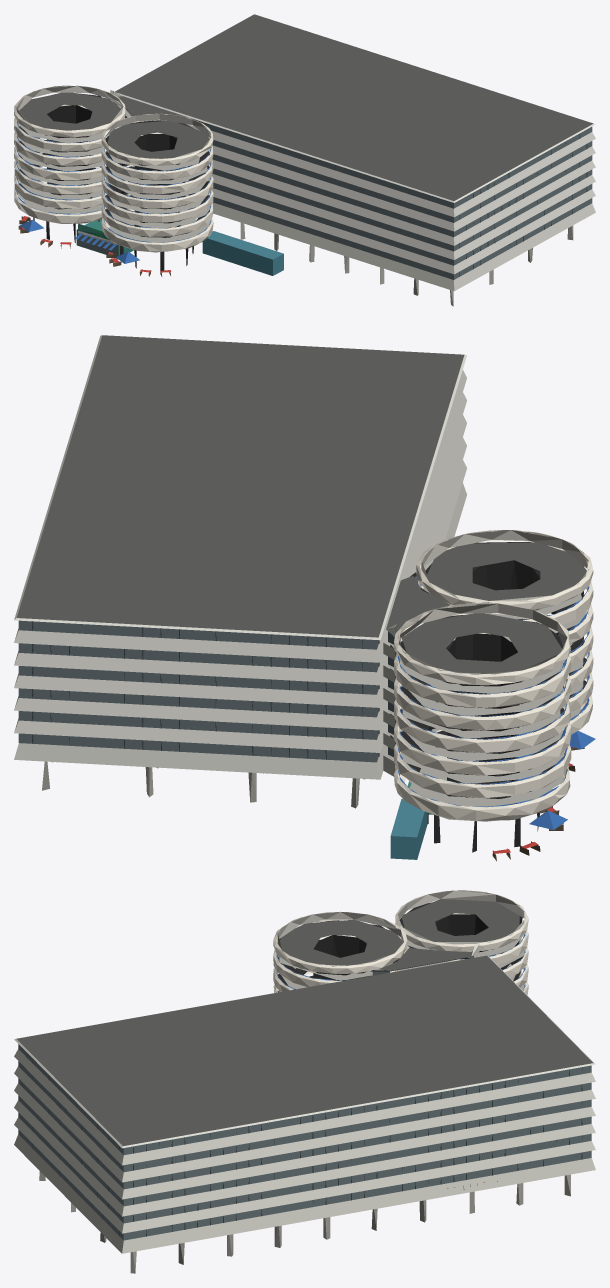
The model's file is europarking-marnixstraat.lod1.glb.
3 renders of one model, top to bottom at view 1: azimuth 30°, elevation 25°; view 2: azimuth 150°, elevation 25°; view 3: azimuth 270°, elevation 25°, orthographic. The views are drawn at different scales.
Parts seen in each view (by area): view 1: europarking-marnixstraat; view 2: europarking-marnixstraat; view 3: europarking-marnixstraat.
Part boxes in pixels (box(x1,y1,x2,y2)): europarking-marnixstraat: box(14, 14, 595, 306); europarking-marnixstraat: box(14, 335, 595, 861); europarking-marnixstraat: box(14, 890, 595, 1273).
Size of the model in its own units: 82.52 by 22 by 80.4.
